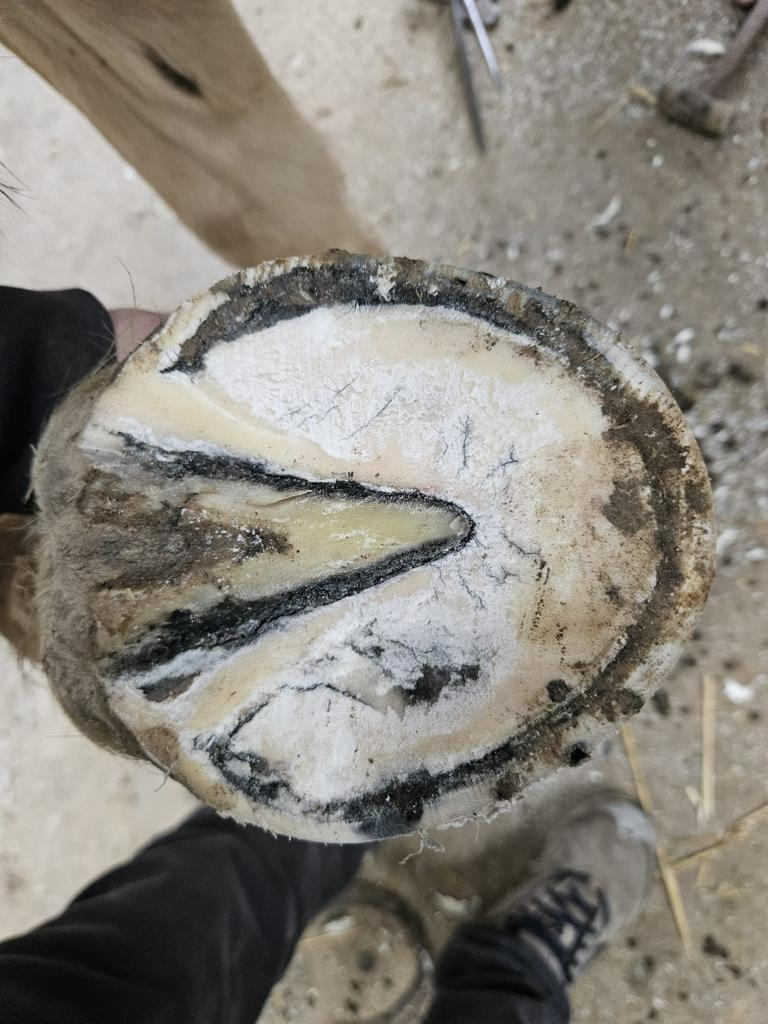horsesole: (65, 255, 715, 844)
